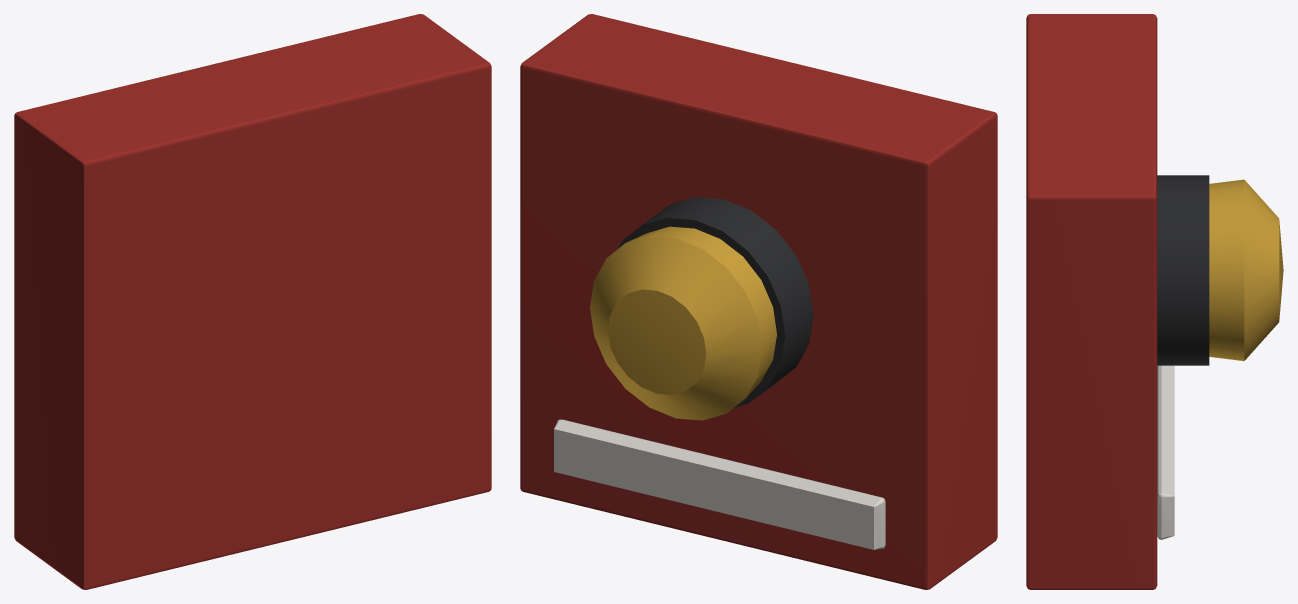
Rendered from prop_alarm_button.glb.
3 views of the same model, side by side, from view 1: azimuth 30°, elevation 25°; view 2: azimuth 150°, elevation 25°; view 3: azimuth 270°, elevation 25° (orthographic). The views are drawn at different scales.
Parts seen in each view (by area): view 1: Panel; view 2: Panel, Button; view 3: Panel, Button.
Part boxes in pixels (bbox=[...]): Panel: bbox=[14, 14, 491, 589]; Panel: bbox=[520, 14, 997, 589]; Button: bbox=[590, 197, 813, 420]; Panel: bbox=[1026, 14, 1174, 589]; Button: bbox=[1157, 175, 1283, 365].
Bounding box in the file's own units: 0.1 × 0.1 × 0.059.
